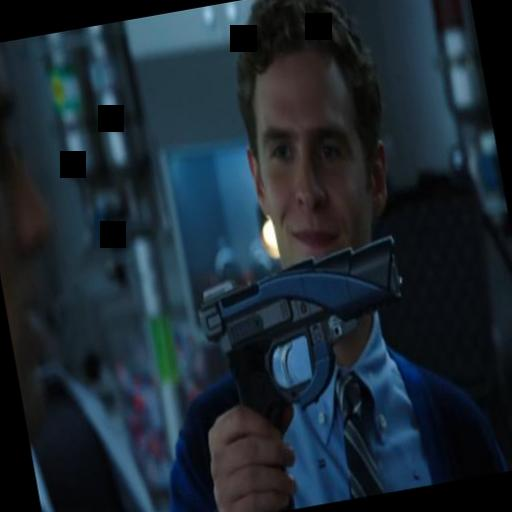Handgun: (140, 212, 446, 500)
